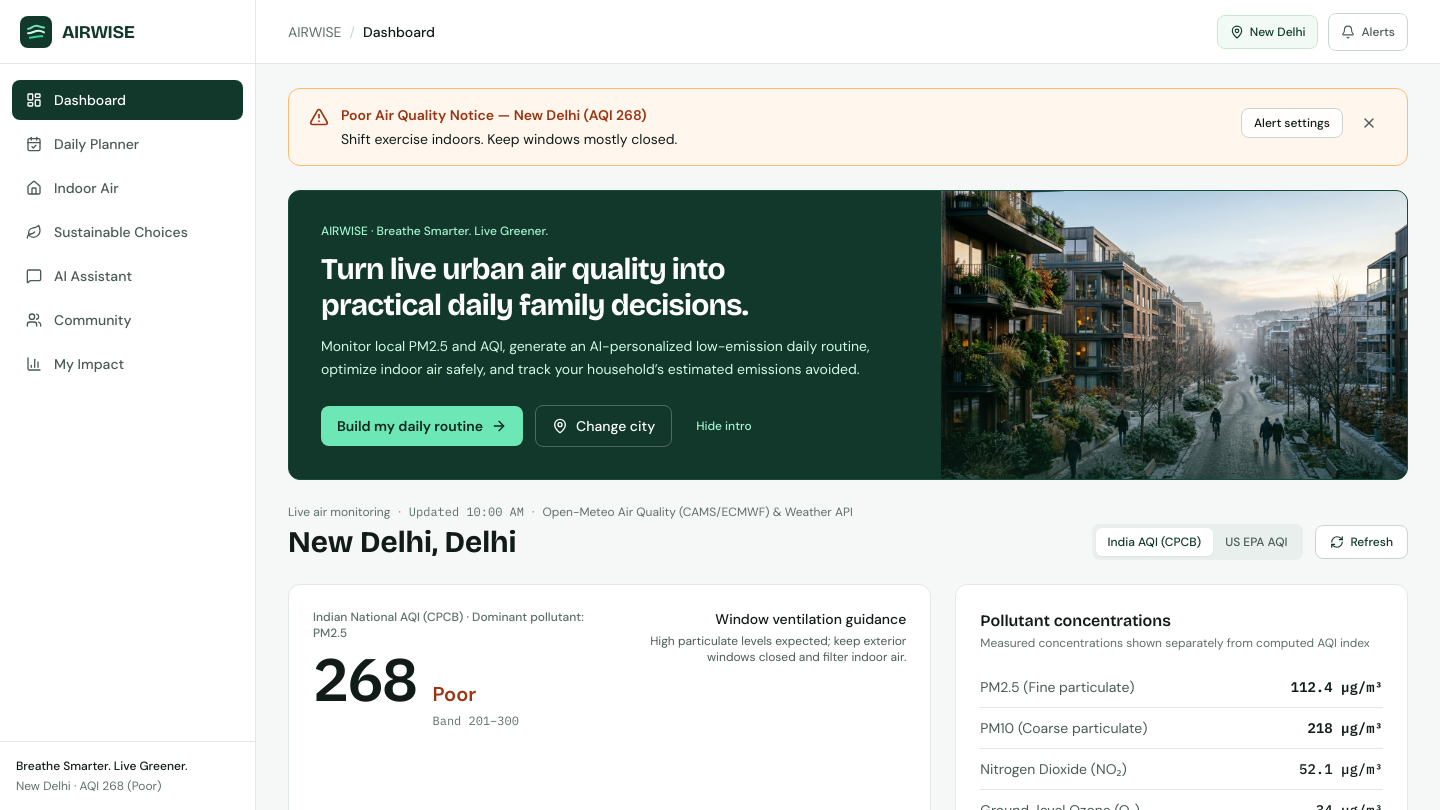
Test case: Batch F1 — Core Frontend Reliability & Accessibility Regression Tests › Task 2 — DashboardView non-blocking refresh and location-switch errors › shows an accessible inline error banner with Retry when refresh fails after a snapshot is loaded
Expected: the text "268" is shown, 313,648 -> 416,708
// Trigger manual refresh that fails while snapshot is already rendered
What coordinates should you click on to do the following:
click the button with aria-label "Refresh air quality readings"
I would click on:
 (1362, 542)
Its box is 1315,524 -> 1408,558.
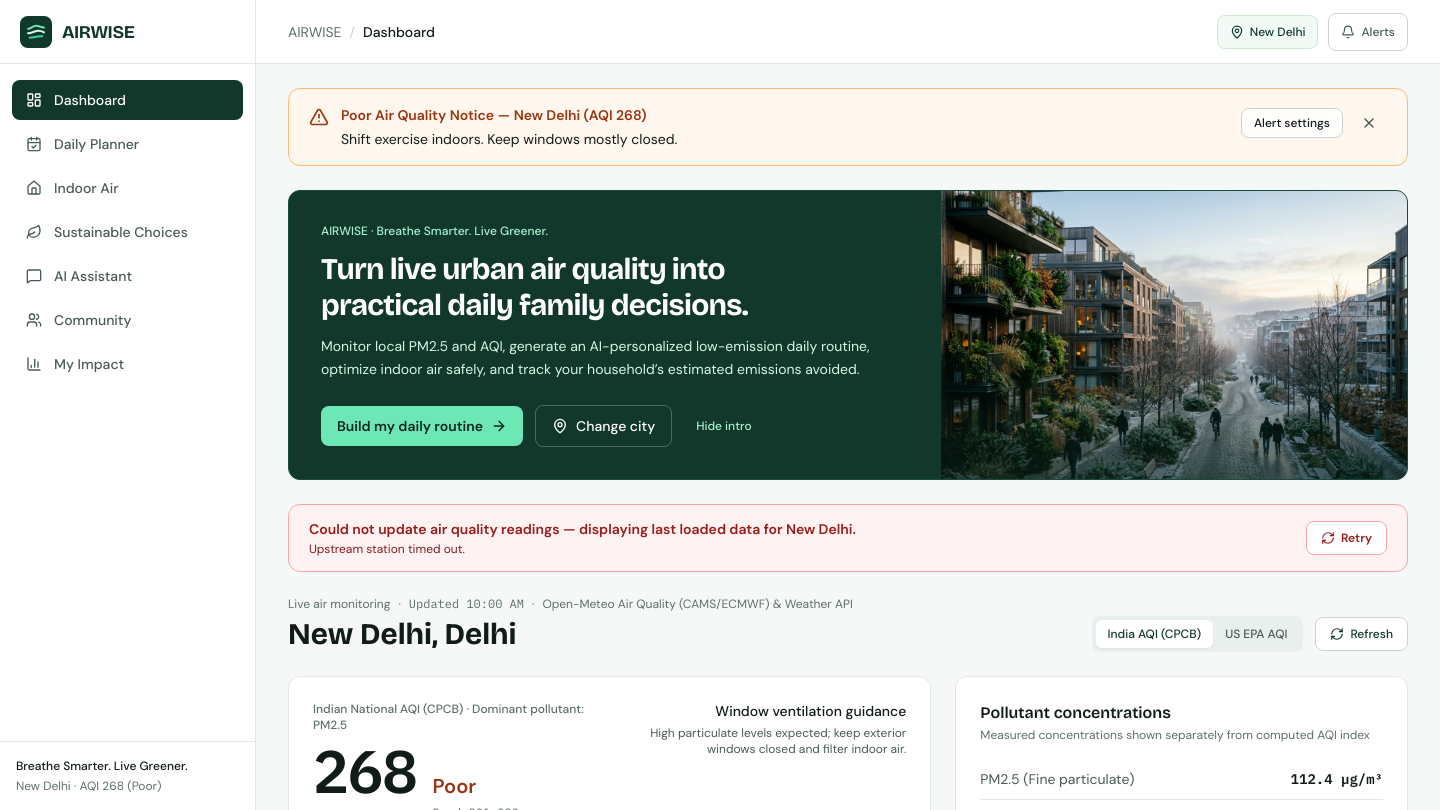
Expected: the text "268" is shown, 313,740 -> 416,800
Expected: the message shows "displaying last loaded data for New Delhi", 288,504 -> 1408,572
Expected: the message shows "Upstream station timed out.", 309,540 -> 465,556
// Clicking Retry recovers and clears the inline error banner
What coordinates should you click on to do the following:
click the button "Retry"
I would click on:
 (1346, 538)
Its box is 1306,520 -> 1387,554.
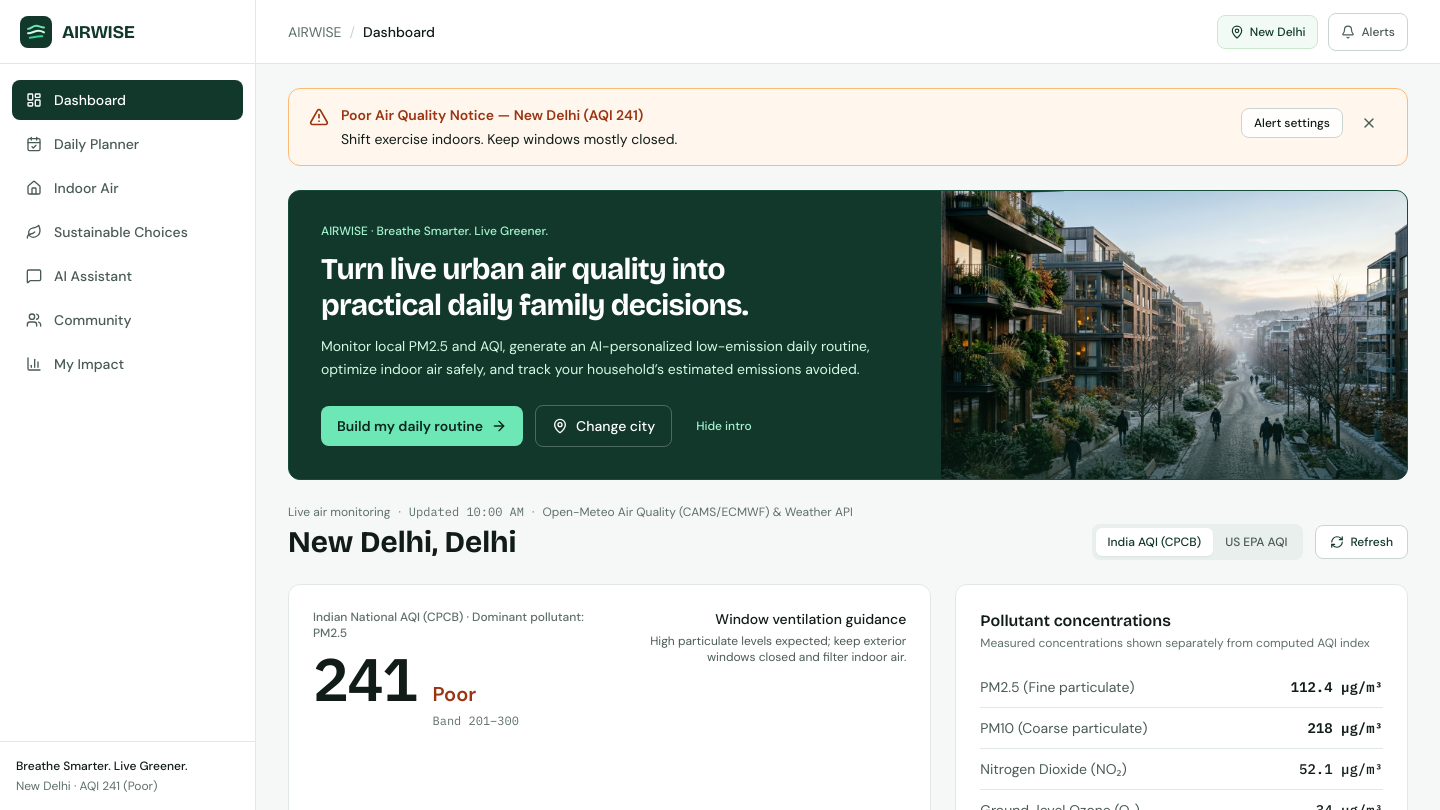
Expected: the text "241" is shown, 313,648 -> 416,708
Expected: the text "Upstream station timed out." is gone
